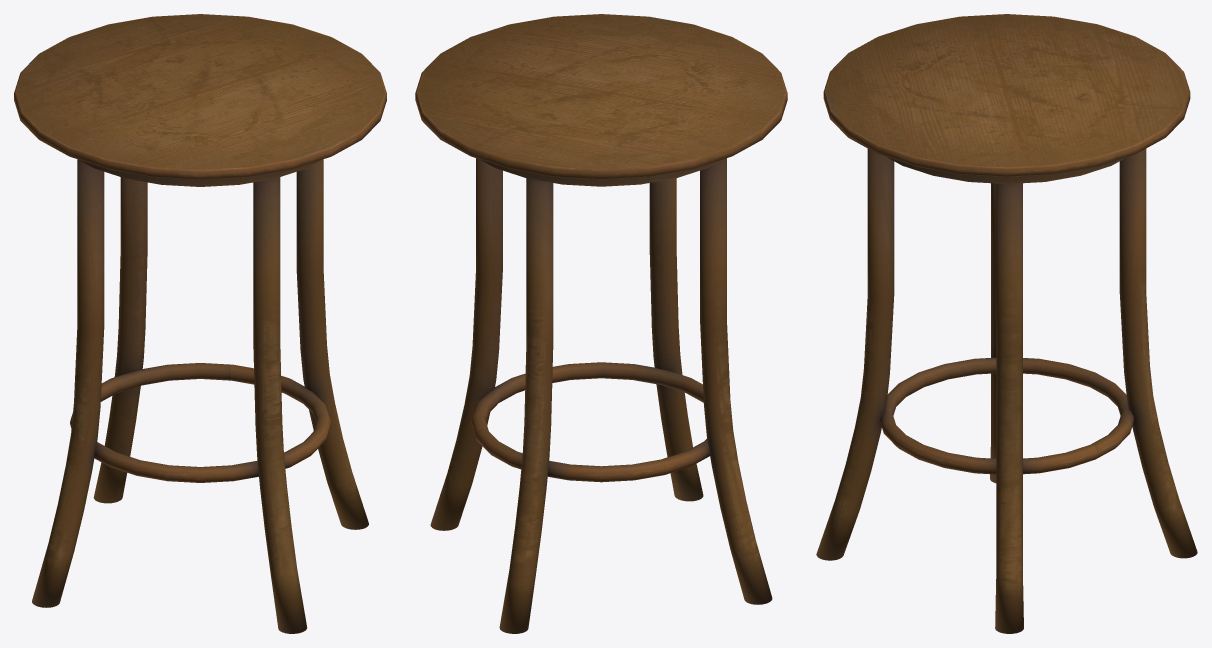
The model's file is CoffeeTeble.fbx.
3 views of the same model, side by side, from view 1: azimuth 30°, elevation 25°; view 2: azimuth 150°, elevation 25°; view 3: azimuth 270°, elevation 25° (orthographic).
Visible parts, largest first — view 1: defaultMaterial; view 2: defaultMaterial; view 3: defaultMaterial.
Boxes of the visible parts, x1,y1,x2,y2 form: defaultMaterial: (14,14,386,633); defaultMaterial: (415,14,787,633); defaultMaterial: (816,14,1197,633).
Bounding box in the file's own units: 43.68 × 58.5 × 43.68.
